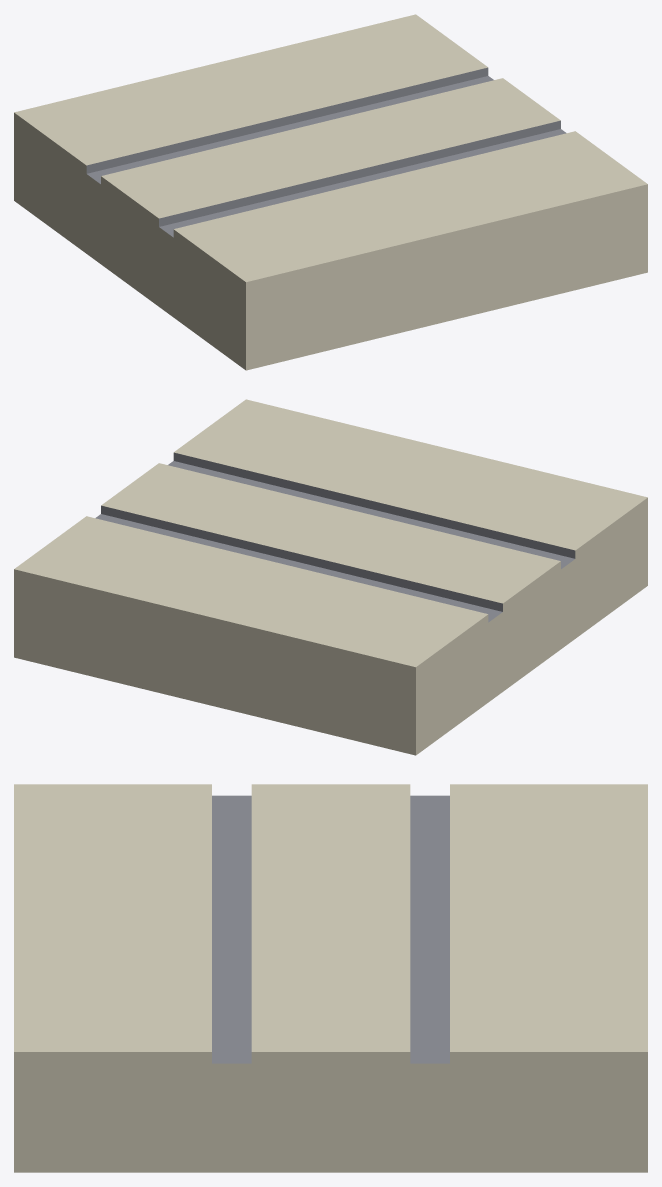
The model's file is roadTile_085.fbx.
3 views of the same model, one above another, from view 1: azimuth 30°, elevation 25°; view 2: azimuth 150°, elevation 25°; view 3: azimuth 270°, elevation 25° (orthographic). The views are drawn at different scales.
Parts seen in each view (by area): view 1: roadTile_085; view 2: roadTile_085; view 3: roadTile_085.
Boxes of the visible parts, x1=… form: roadTile_085: x1=14, y1=14, x2=647, y2=370; roadTile_085: x1=14, y1=399, x2=647, y2=755; roadTile_085: x1=14, y1=784, x2=647, y2=1172.
Bounding box in the file's own units: 118 × 24.8 × 118.
